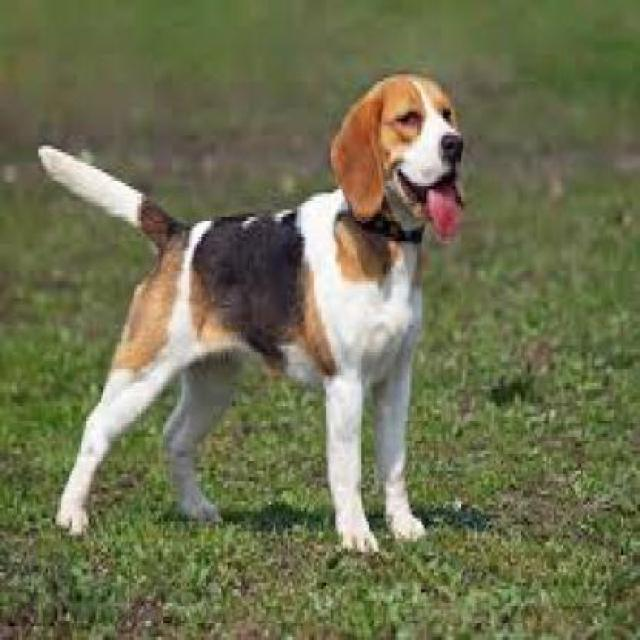Dog: (37, 64, 469, 564)
